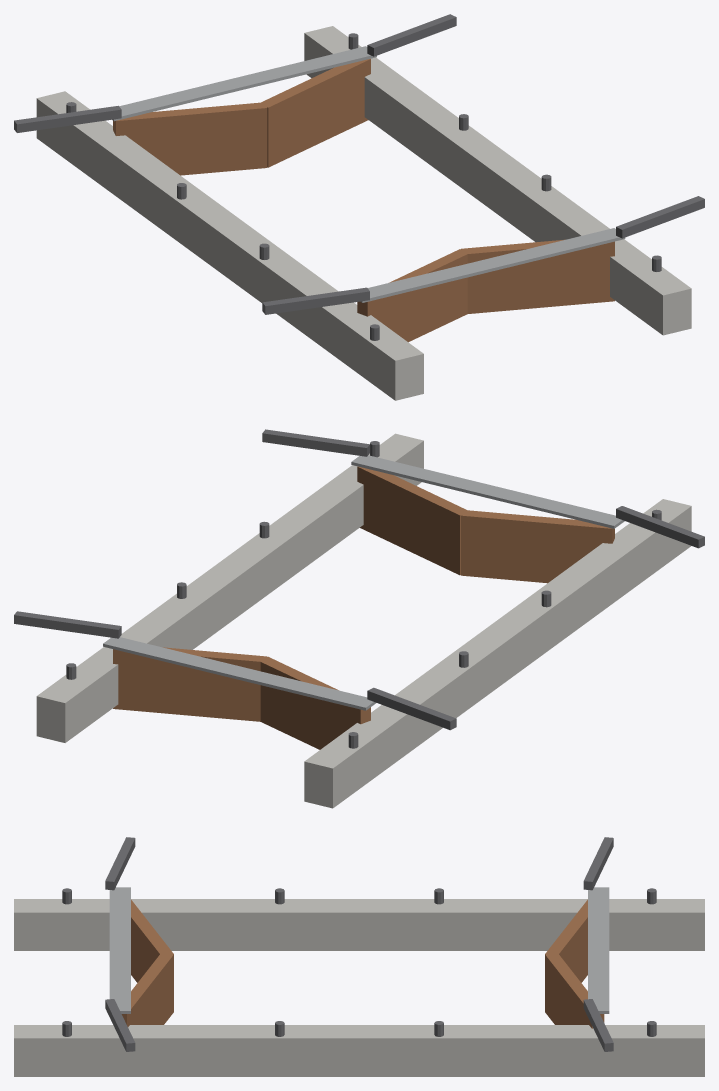
File: CanalLock.glb
The picture shows the model from 3 angles, top to bottom: view 1: azimuth 30°, elevation 25°; view 2: azimuth 150°, elevation 25°; view 3: azimuth 270°, elevation 25°; orthographic projection. The views are drawn at different scales.
Visible parts, largest first — view 1: Lock wall, Lock wall.001, Mitre gate.002, Mitre gate.001, Mitre gate.003, Mitre gate, Gate walkway.001, Gate walkway, Balance beam, Balance beam.002, Balance beam.003, Balance beam.001; view 2: Lock wall, Lock wall.001, Mitre gate, Mitre gate.003, Mitre gate.001, Mitre gate.002, Gate walkway.001, Gate walkway, Balance beam.001, Balance beam.003, Balance beam.002, Balance beam; view 3: Lock wall.001, Lock wall, Gate walkway.001, Gate walkway, Mitre gate.001, Mitre gate.003, Mitre gate, Mitre gate.002, Balance beam.002, Balance beam, Balance beam.001, Balance beam.003.
Boxes of the visible parts, bbox=[...] form: Lock wall: bbox=[36, 91, 423, 400]; Lock wall.001: bbox=[304, 26, 691, 335]; Mitre gate.002: bbox=[113, 102, 267, 175]; Mitre gate.001: bbox=[461, 239, 614, 313]; Mitre gate.003: bbox=[258, 58, 370, 167]; Mitre gate: bbox=[357, 249, 468, 342]; Gate walkway.001: bbox=[112, 46, 376, 121]; Gate walkway: bbox=[360, 228, 625, 302]; Balance beam: bbox=[262, 287, 369, 314]; Balance beam.002: bbox=[14, 105, 121, 132]; Balance beam.003: bbox=[367, 14, 456, 56]; Balance beam.001: bbox=[616, 196, 704, 238]; Lock wall: bbox=[304, 499, 691, 808]; Lock wall.001: bbox=[36, 433, 423, 742]; Mitre gate: bbox=[461, 510, 614, 583]; Mitre gate.003: bbox=[113, 647, 267, 721]; Mitre gate.001: bbox=[357, 466, 468, 575]; Mitre gate.002: bbox=[258, 656, 370, 749]; Gate walkway.001: bbox=[103, 637, 376, 710]; Gate walkway: bbox=[351, 455, 624, 528]; Balance beam.001: bbox=[262, 429, 369, 456]; Balance beam.003: bbox=[14, 611, 121, 638]; Balance beam.002: bbox=[367, 687, 456, 730]; Balance beam: bbox=[616, 506, 704, 548]; Lock wall.001: bbox=[14, 1025, 704, 1076]; Lock wall: bbox=[14, 899, 704, 950]; Gate walkway.001: bbox=[588, 887, 609, 1013]; Gate walkway: bbox=[109, 887, 130, 1013]; Mitre gate.001: bbox=[121, 952, 173, 1026]; Mitre gate.003: bbox=[545, 952, 604, 1028]; Mitre gate: bbox=[131, 899, 173, 982]; Mitre gate.002: bbox=[545, 899, 587, 982]; Balance beam.002: bbox=[583, 837, 613, 890]; Balance beam: bbox=[105, 837, 135, 890]; Balance beam.001: bbox=[105, 999, 135, 1051]; Balance beam.003: bbox=[583, 999, 613, 1051].
Bounding box in the file's own units: 18.39 × 2.98 × 26.
